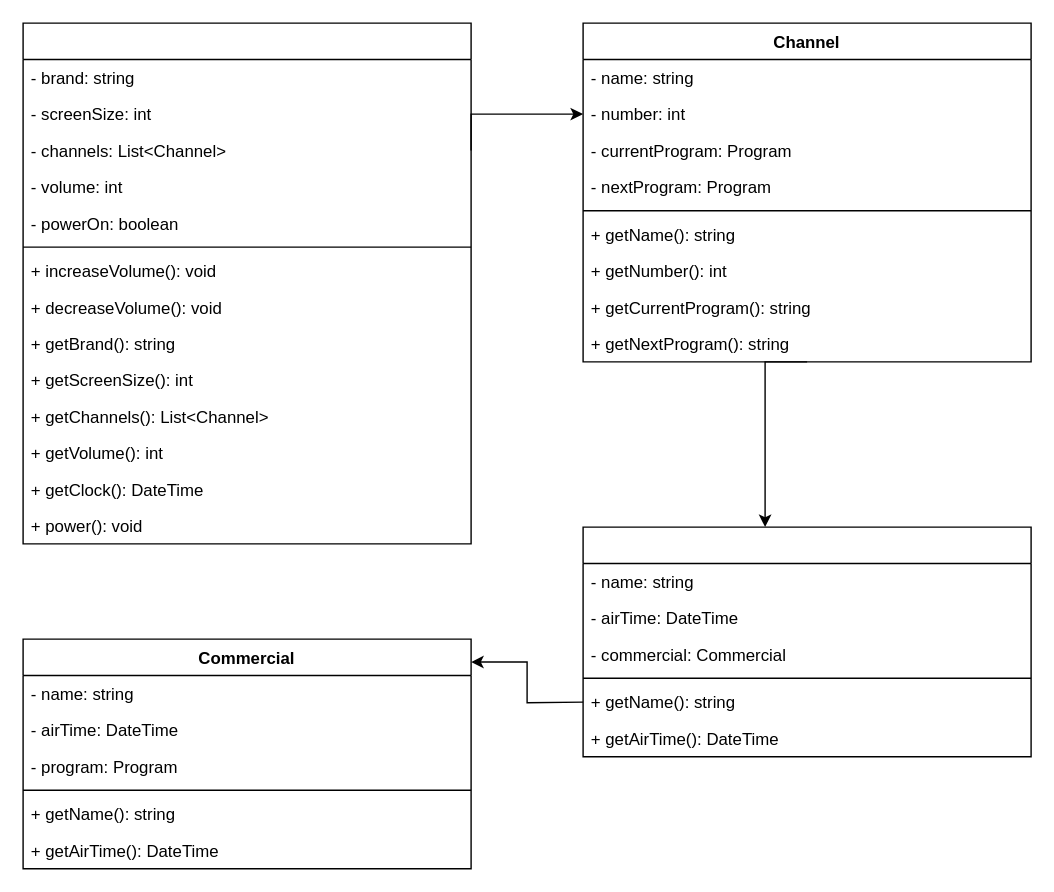
This 1054x892 diagram has some shape labels left out. Each missing label, with the box of its shape:
Program: (582, 526, 1031, 757)
Television: (22, 22, 471, 544)
